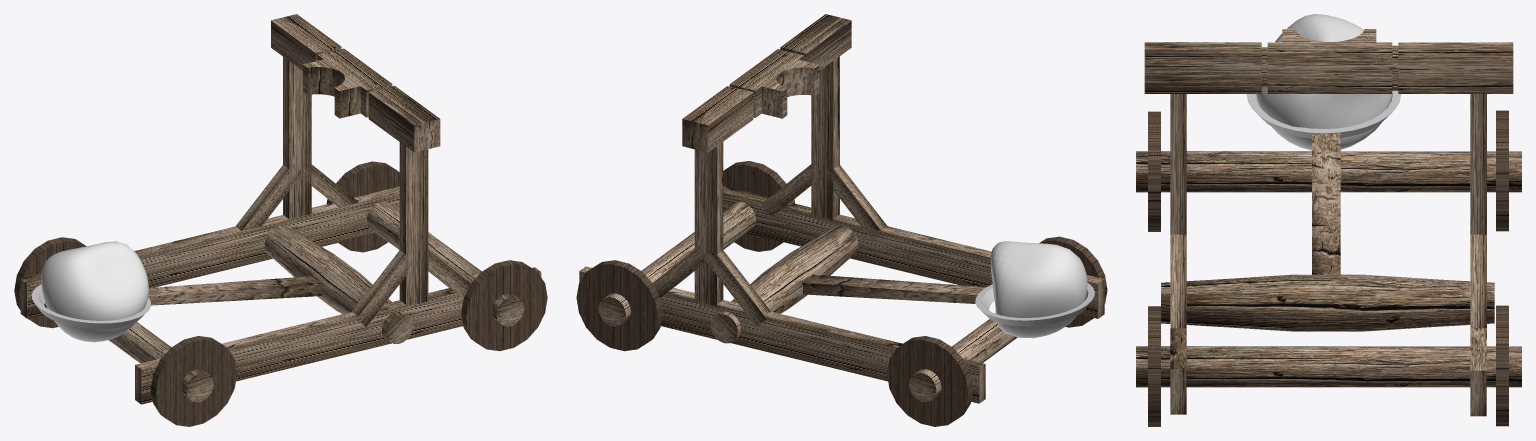
Rendered from Vachapulte.FBX.
3 views of the same model, side by side, from view 1: azimuth 30°, elevation 25°; view 2: azimuth 150°, elevation 25°; view 3: azimuth 270°, elevation 25° (orthographic). The views are drawn at different scales.
Visible parts, largest first — view 1: Vachapulte, Manche, PierreMolle; view 2: Vachapulte, Manche, PierreMolle; view 3: Vachapulte, Manche, PierreMolle.
Part boxes in pixels (x1,y1,x2,y2): Vachapulte: (14, 14, 547, 426); Manche: (31, 225, 412, 343); PierreMolle: (41, 241, 148, 342); Vachapulte: (576, 14, 1107, 426); Manche: (710, 225, 1094, 343); PierreMolle: (990, 241, 1087, 338); Vachapulte: (1136, 29, 1521, 426); Manche: (1161, 91, 1494, 331); PierreMolle: (1256, 14, 1392, 150).
Size of the model in its own units: 139 by 74.45 by 81.53.
